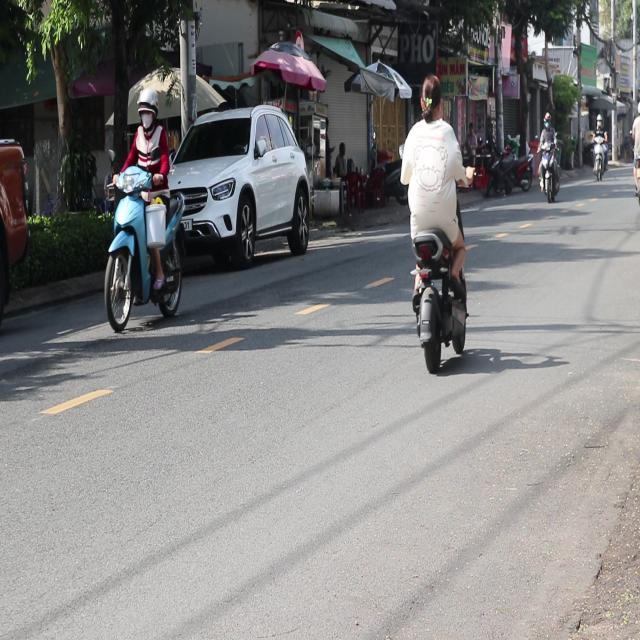helmet: (136, 87, 159, 131)
licenseplate: (400, 71, 473, 372), (101, 86, 184, 332)
motorcyclist: (419, 74, 443, 120)
